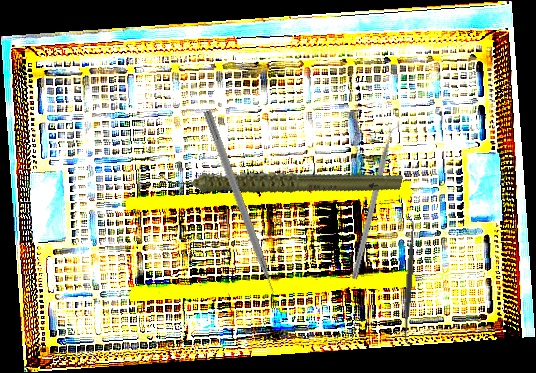Chopper: (192, 109, 281, 308), (350, 119, 406, 282)
Handpiece: (159, 116, 404, 242)
Spatula Surgical: (397, 215, 421, 347)
